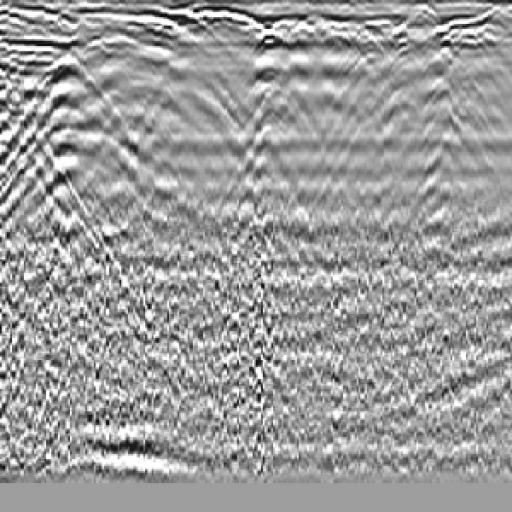non-metallic: (1, 45, 156, 250)
